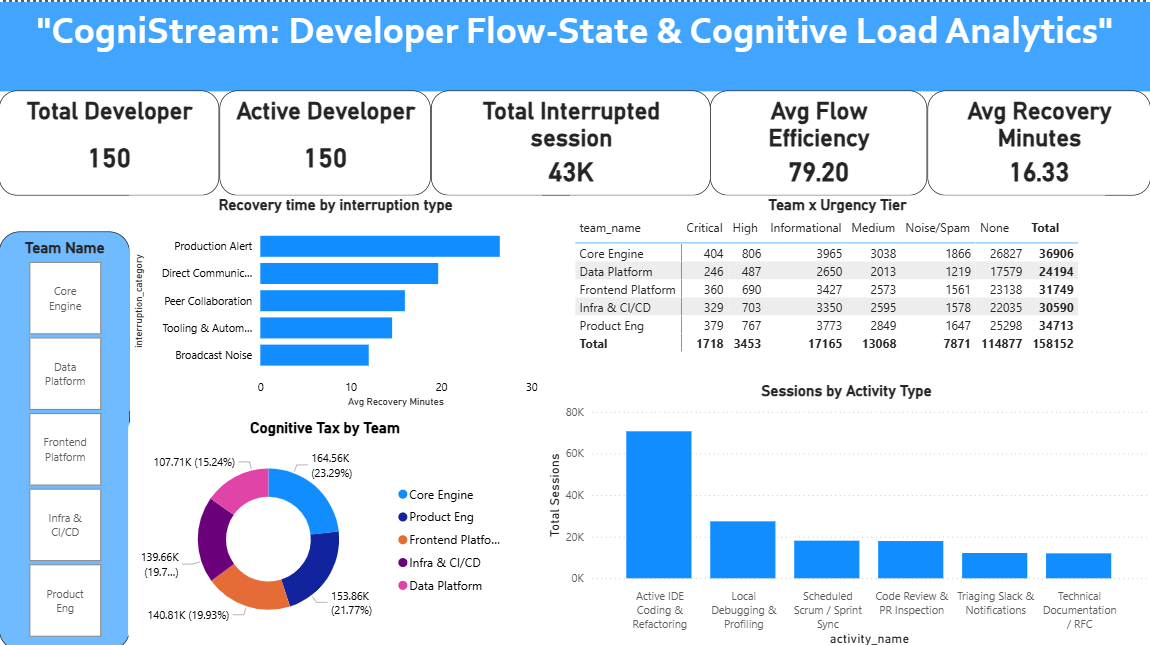

This screenshot's page, from the dashboard's own definition file:
{"tool":"powerbi","page":{"name":"Page 1","canvas":[1280,720],"ordinal":0},"visuals":[{"type":"textbox","box":[0,0,1279.4,99.3],"z":0},{"type":"card","title":"Total Developer","fields":{"Values":["measures table (2).Total Developers"]},"box":[0,98.8,244.5,116.6],"z":1000},{"type":"card","title":"Active Developer","fields":{"Values":["measures table (2).Active Developer"]},"box":[244.5,98.8,234.8,116.6],"z":2000},{"type":"card","title":"Total Interrupted session","fields":{"Values":["measures table (2).Total Interrupted Sessions"]},"box":[479.3,98.8,310.9,116.6],"z":3000},{"type":"card","title":"Avg Flow Efficiency","fields":{"Values":["measures table (2).Avg Flow Efficiency"]},"box":[790.2,98.8,241.3,116.6],"z":4000},{"type":"card","title":" Avg Recovery Minutes","fields":{"Values":["measures table (2).Avg Recovery Minutes"]},"box":[1031.4,98.8,247.7,116.6],"z":5000},{"type":"slicer","title":"Team Name","fields":{"Values":["Dim Developer.team_name"]},"box":[0,215.4,145.7,505.2],"z":6000},{"type":"donutChart","title":" Cognitive Tax by Team","fields":{"Category":["Dim Developer.team_name"],"Y":["measures table (2).Total Cognitive Tax Minutes"]},"box":[143.3,455,436.7,265],"z":7000},{"type":"clusteredBarChart","title":" Recovery time by interruption type","fields":{"Category":["dim_interruption_cleaned.interruption_category"],"Y":["measures table (2).Avg Recovery Minutes"]},"box":[145.2,215.1,459.6,240.8],"z":8000},{"type":"pivotTable","title":"Team x Urgency Tier","fields":{"Columns":["dim_interruption_cleaned.urgency_tier"],"Rows":["Dim Developer.team_name"],"Values":["measures table (2).Total Sessions"]},"box":[635,215,593.3,188.3],"z":9000},{"type":"clusteredColumnChart","title":"Sessions by Activity Type","fields":{"Category":["Activity  Log.activity_name"],"Y":["measures table (2).Total Sessions"]},"box":[603.3,421.7,676.7,298.3],"z":10000}]}

Visuals, with their boxes in screenshot pixels (x1, y1, x2, y2), scaled from the page's 1280x720 canvas onto the 1150x645 screenshot:
textbox: (0,0,1149,89)
"Total Developer" card: (0,89,220,193)
"Active Developer" card: (220,89,431,193)
"Total Interrupted session" card: (431,89,710,193)
"Avg Flow Efficiency" card: (710,89,927,193)
" Avg Recovery Minutes" card: (927,89,1149,193)
"Team Name" slicer: (0,193,131,644)
" Cognitive Tax by Team" donutChart: (129,408,521,644)
" Recovery time by interruption type" clusteredBarChart: (130,193,543,408)
"Team x Urgency Tier" pivotTable: (571,193,1104,361)
"Sessions by Activity Type" clusteredColumnChart: (542,378,1149,644)
